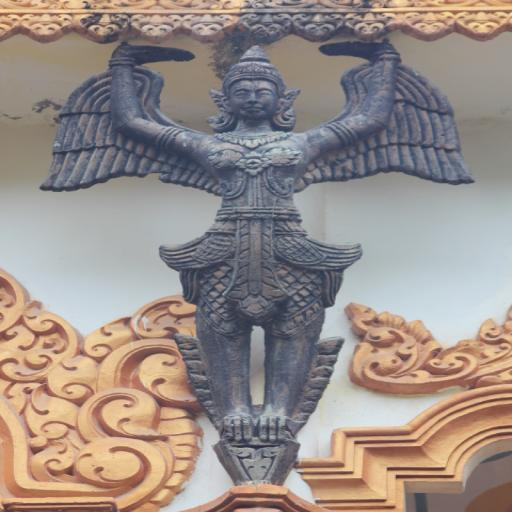la: (27, 384, 163, 486), (0, 302, 84, 380), (343, 302, 416, 386), (46, 355, 104, 401), (85, 318, 134, 358), (238, 12, 294, 44), (75, 13, 133, 43), (344, 12, 403, 41), (0, 268, 27, 330), (292, 13, 345, 44), (184, 14, 238, 44), (402, 11, 454, 42), (455, 12, 508, 42), (19, 14, 75, 42), (130, 14, 183, 43), (476, 312, 504, 342), (0, 15, 19, 40)
than: (104, 34, 402, 442)
